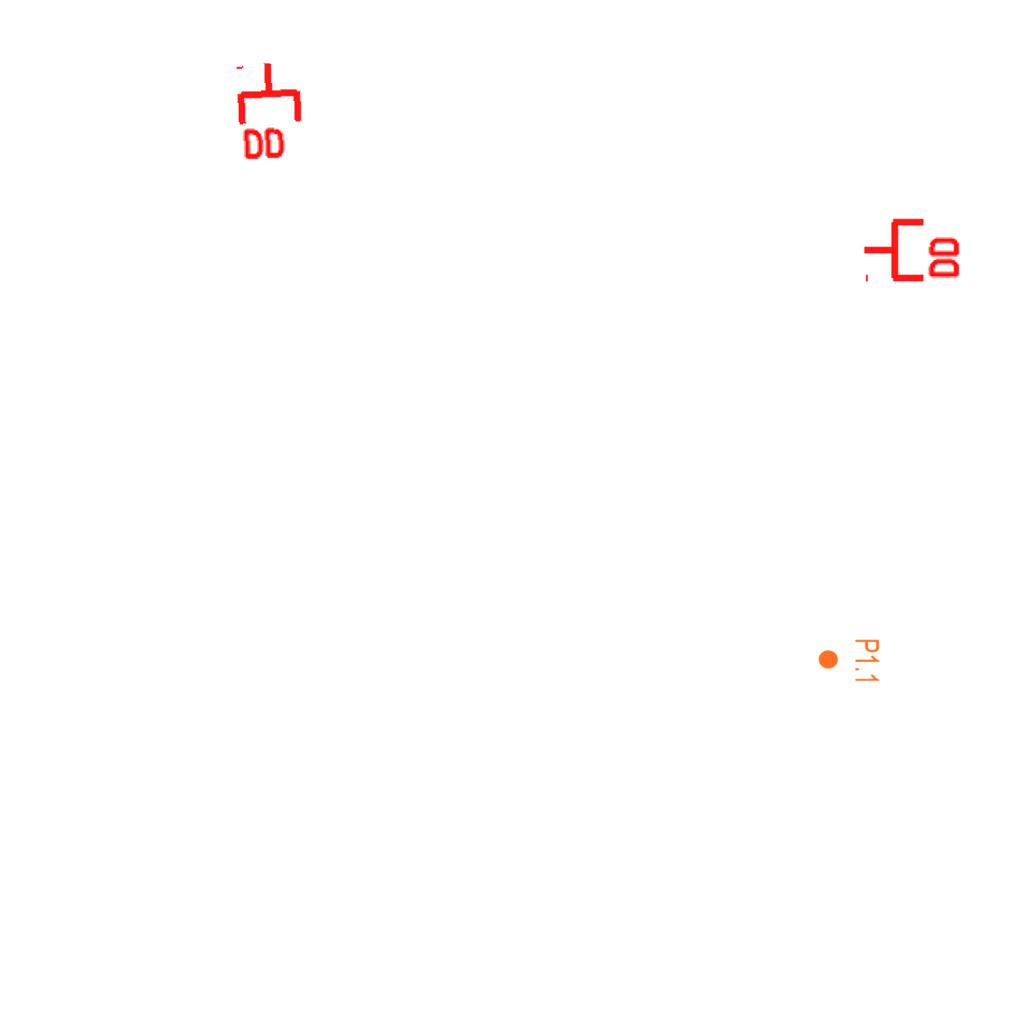Datenanschluss_zweifach: (234, 58, 309, 165), (861, 214, 964, 283)
Downlight_LED_Einbauleuchten_Flur: (817, 638, 881, 684)
